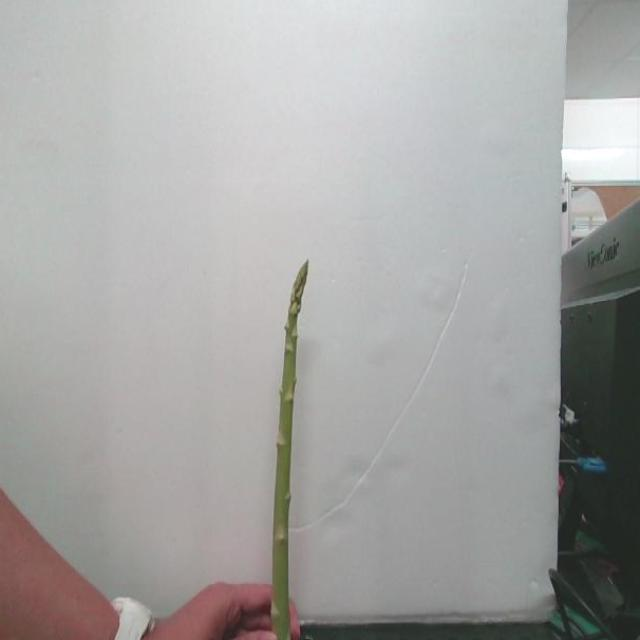aspargus: (272, 264, 310, 640)
